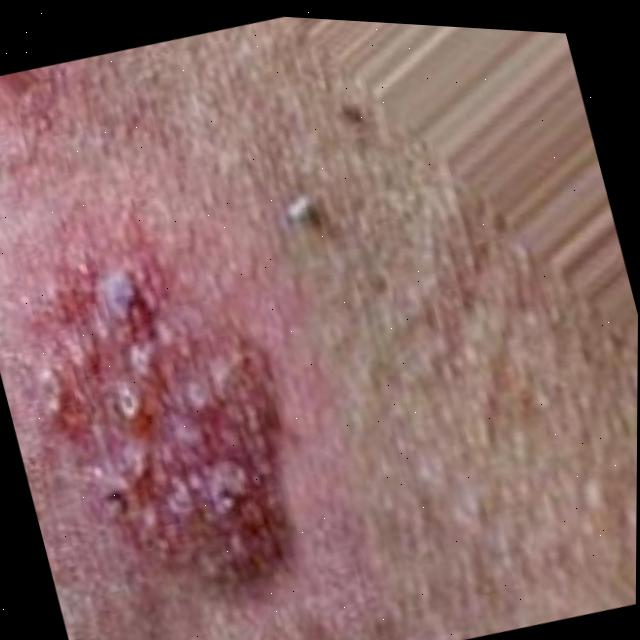Shingles: (35, 226, 302, 589)
